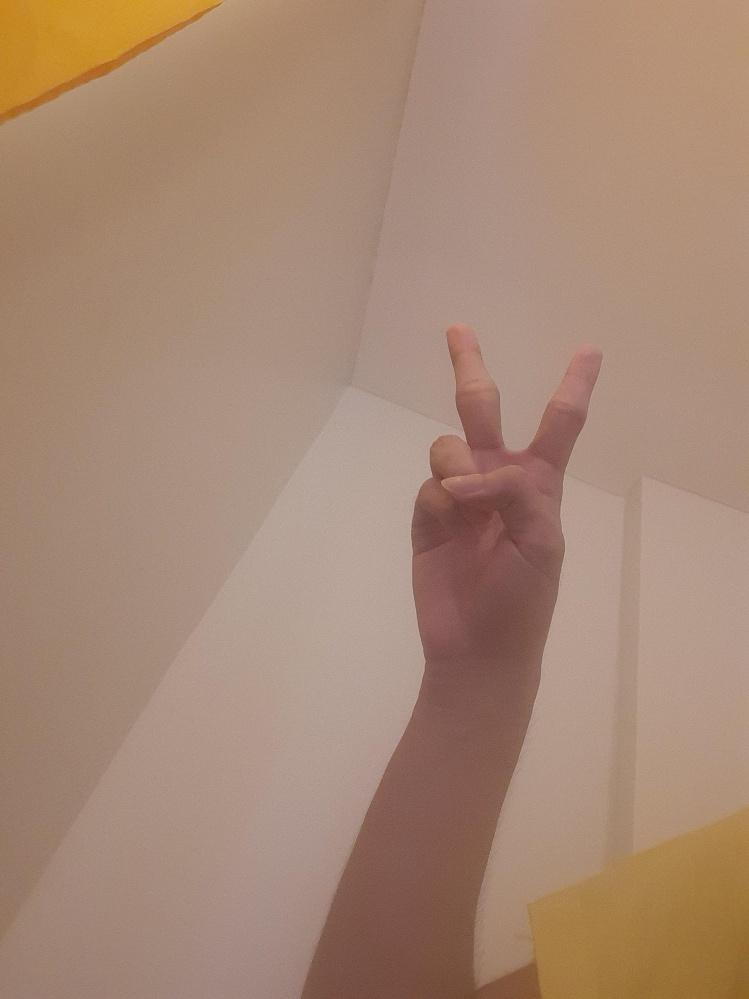v: (411, 323, 602, 645)
